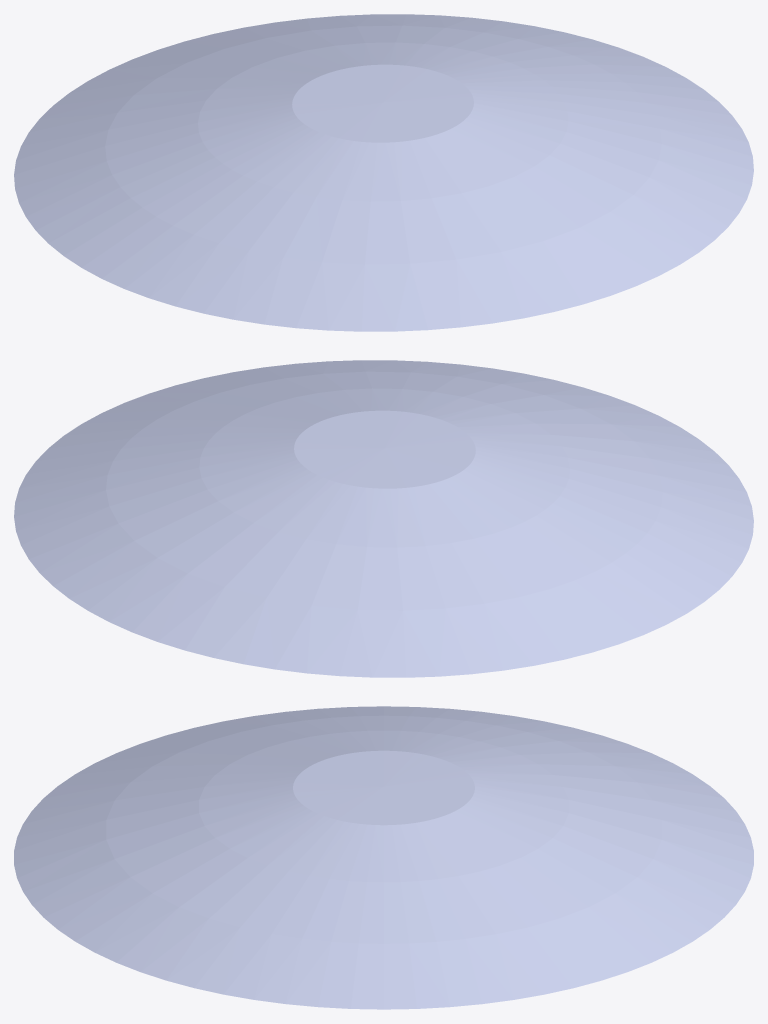
File: gps.dae
The picture shows the model from 3 angles, top to bottom: view 1: azimuth 30°, elevation 25°; view 2: azimuth 150°, elevation 25°; view 3: azimuth 270°, elevation 25°; orthographic projection.
Parts seen in each view (by area): view 1: 5eb6e0389959b71580ef8db0; view 2: 5eb6e0389959b71580ef8db0; view 3: 5eb6e0389959b71580ef8db0.
Part boxes in pixels (left/top/right/bottom): 5eb6e0389959b71580ef8db0: left=14, top=14, right=753, bottom=331; 5eb6e0389959b71580ef8db0: left=14, top=360, right=753, bottom=677; 5eb6e0389959b71580ef8db0: left=14, top=706, right=753, bottom=1009.
Size of the model in its own units: 0.00412 by 0.00412 by 0.000876.
